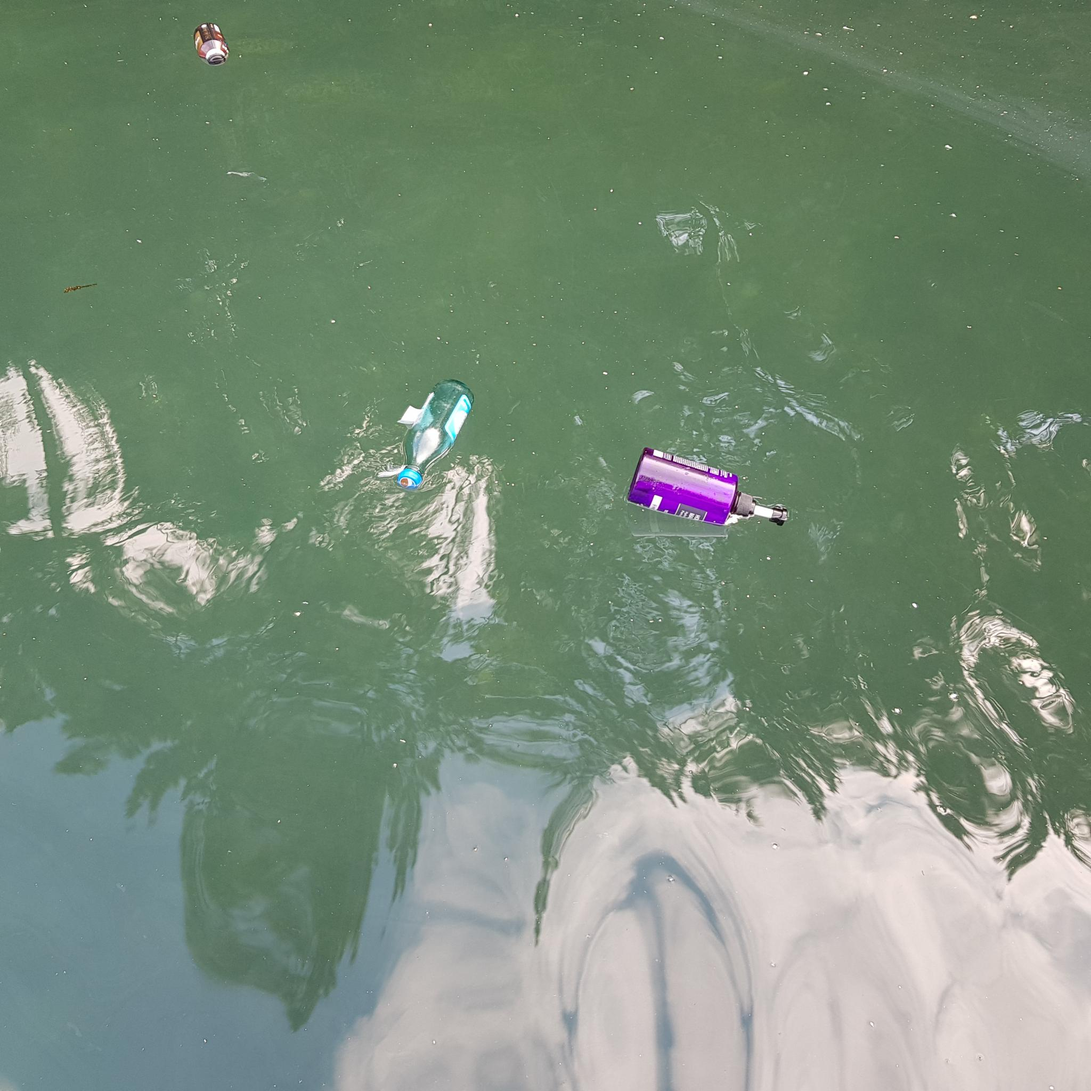sampah_terapung: (628, 448, 788, 526), (398, 380, 475, 490), (194, 23, 230, 65)
